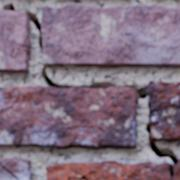brick: (41, 4, 179, 67), (0, 86, 137, 148), (148, 81, 179, 141), (0, 11, 30, 72), (0, 158, 30, 179), (0, 167, 14, 179)
broken_brick: (45, 160, 179, 179)
crack: (0, 2, 179, 178), (0, 161, 19, 179), (66, 172, 88, 179)
